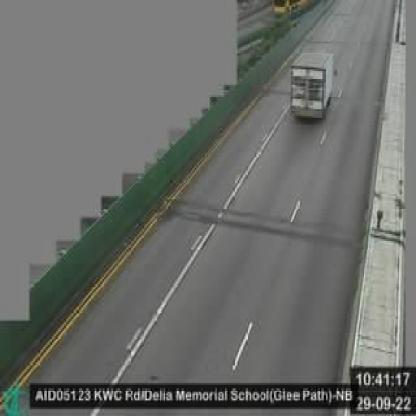Truck: (284, 43, 336, 130)
